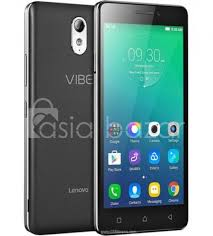lenovo: (20, 1, 189, 233), (91, 1, 191, 233), (25, 1, 95, 233)
